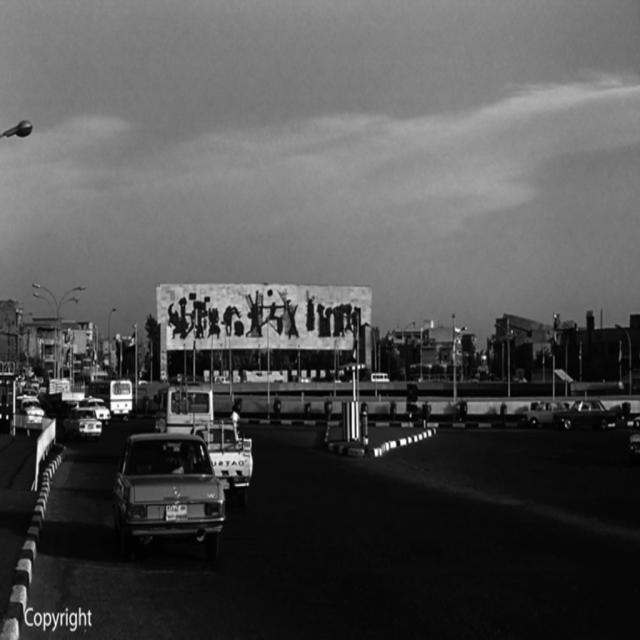car: (112, 432, 220, 553)
